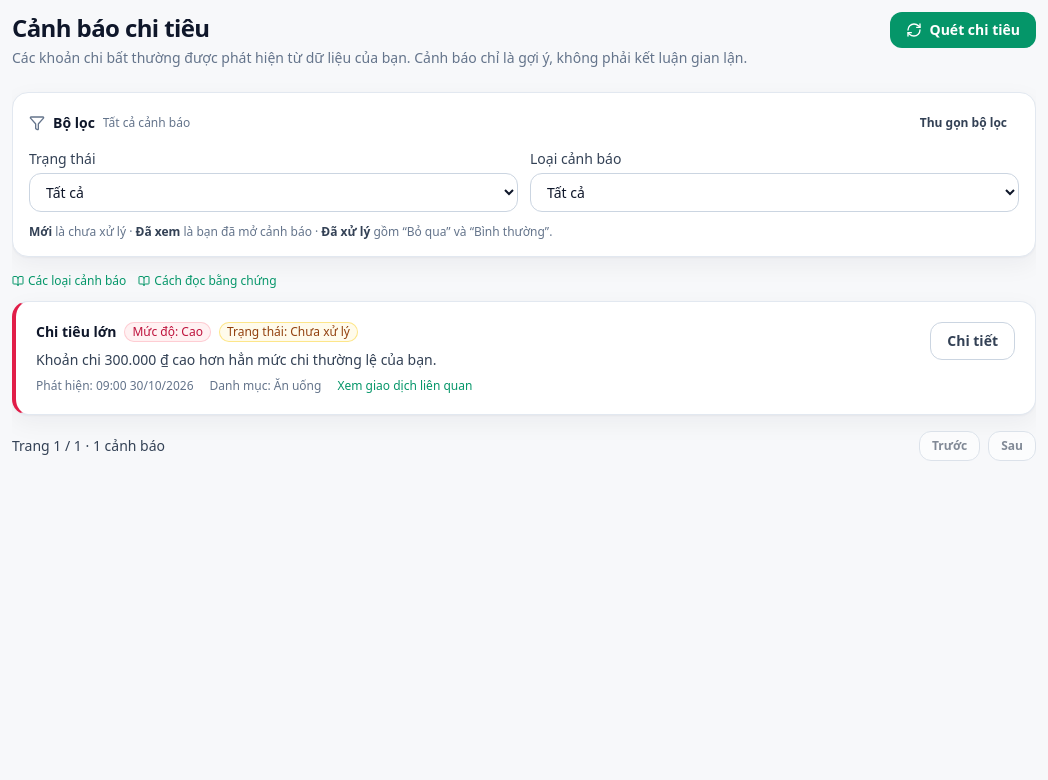
Scenario: AlertsPage — scan › shows a completed scan summary and reloads the list with current filters
Expected: the text "Mức độ: Cao" is shown, [124, 322, 211, 342]
Click the button "Quét chi tiêu" at (963,30), box [890, 12, 1036, 48]
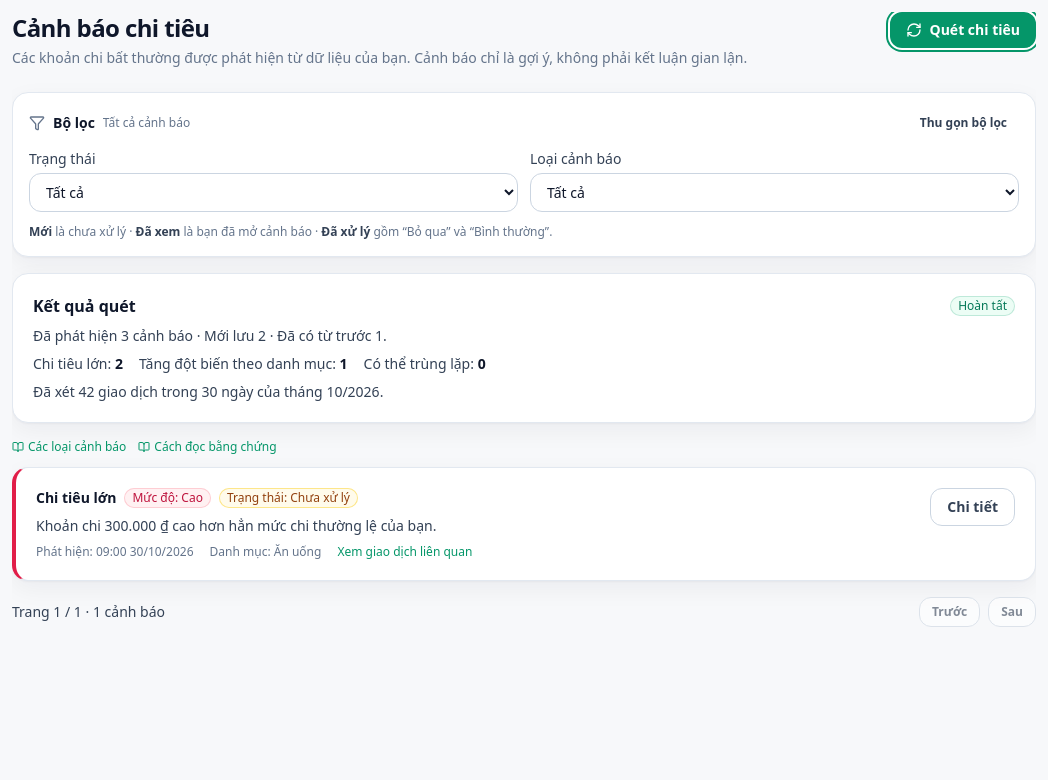
Result: the text "Đã phát hiện 3 cảnh báo · Mới lưu 2 · Đã có từ trước 1." is shown at [33, 326, 387, 345]
Result: the text "Hoàn tất" is shown at [950, 296, 1015, 316]
